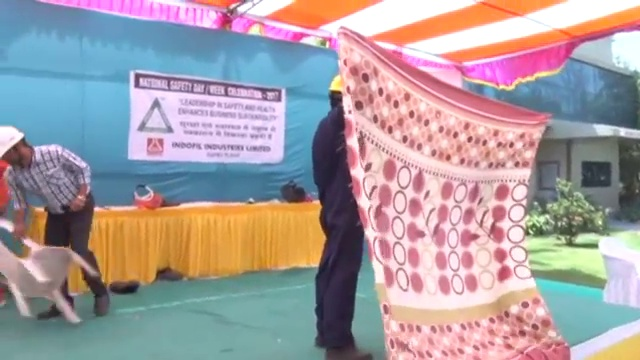helmet: (1, 123, 25, 159), (328, 73, 343, 95)
helmet_on: (1, 121, 35, 169), (326, 71, 346, 115)
person: (1, 119, 108, 318), (307, 71, 374, 360)
